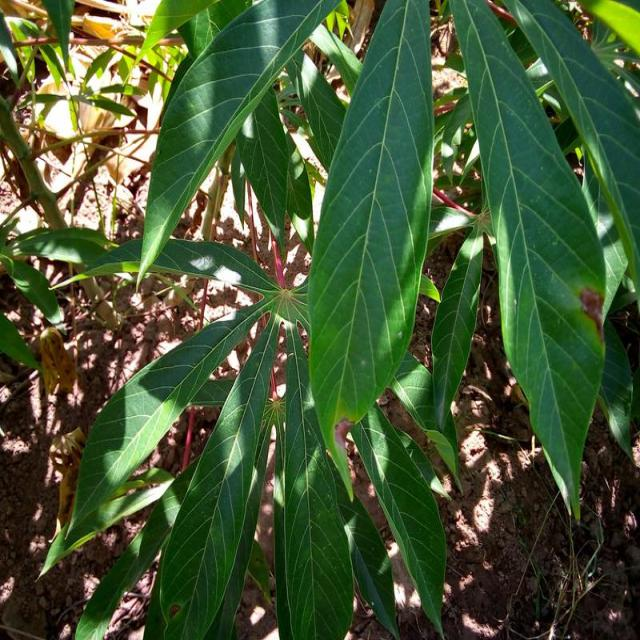cassava leaf: (448, 0, 607, 522), (306, 0, 435, 493), (134, 0, 342, 290)
